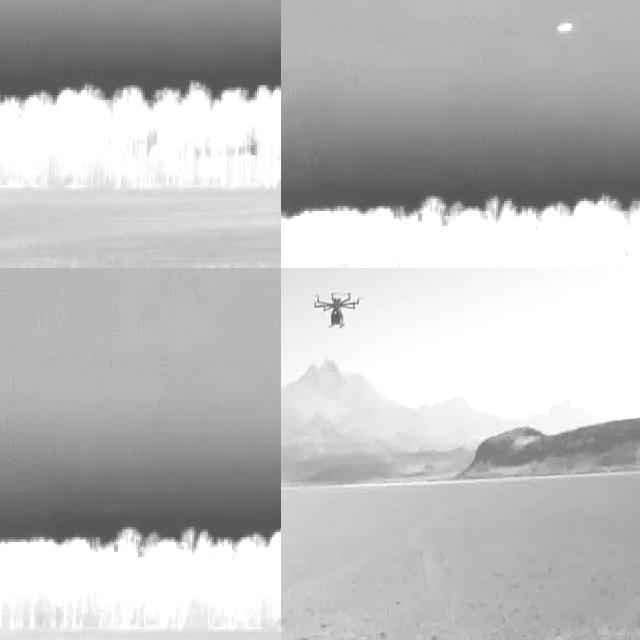1: (550, 15, 586, 45)
drone: (314, 284, 358, 334)
